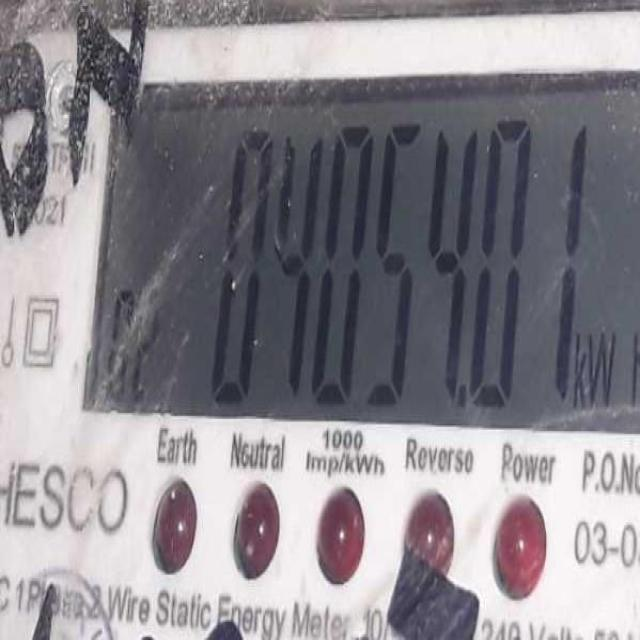0: (315, 125, 376, 407), (217, 124, 273, 412), (472, 118, 526, 410)
1: (555, 111, 592, 414)
4: (427, 122, 475, 410), (276, 128, 319, 410)
5: (369, 123, 419, 403)
Digital meter: (115, 83, 636, 416)
point: (457, 376, 479, 416)
